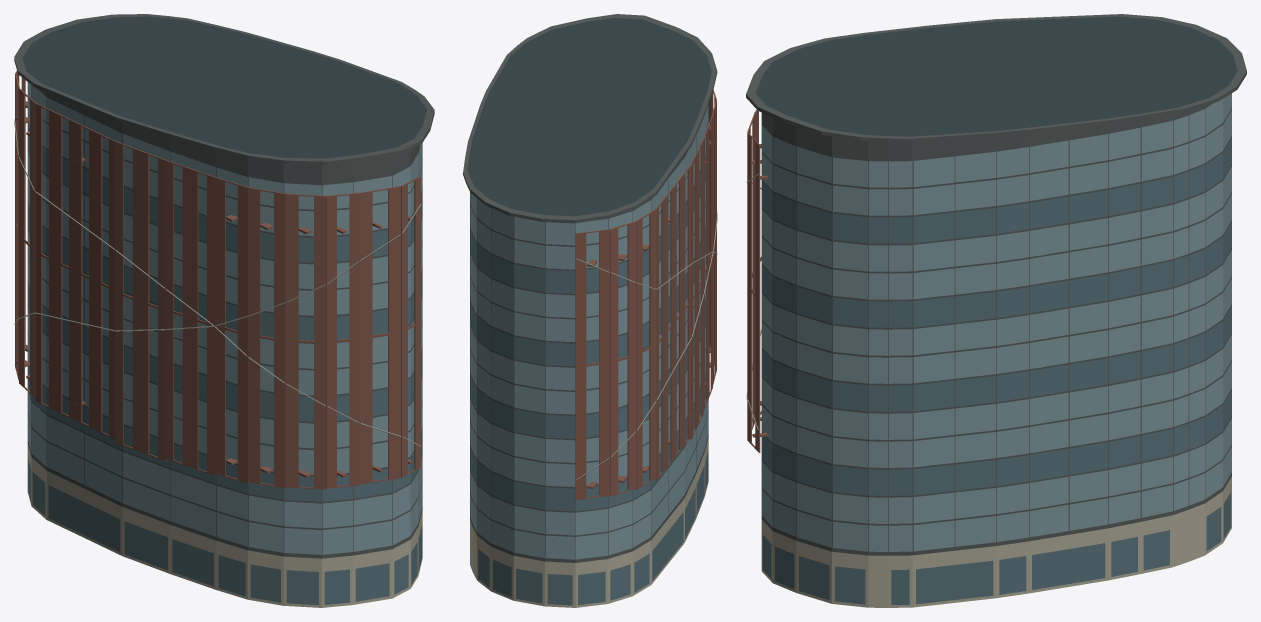
The model's file is tour-elithis-dijon-far.glb.
3 renders of one model, left to right at view 1: azimuth 30°, elevation 25°; view 2: azimuth 150°, elevation 25°; view 3: azimuth 270°, elevation 25°, orthographic. The views are drawn at different scales.
Visible parts, largest first — view 1: tour-elithis-dijon-0-copper, tour-elithis-dijon-0-glass, tour-elithis-dijon-0-solar, tour-elithis-dijon-0-glassDark, tour-elithis-dijon-0-frame, tour-elithis-dijon-0-stone, tour-elithis-dijon-0-ties; view 2: tour-elithis-dijon-0-glass, tour-elithis-dijon-0-solar, tour-elithis-dijon-0-copper, tour-elithis-dijon-0-glassDark, tour-elithis-dijon-0-frame, tour-elithis-dijon-0-stone, tour-elithis-dijon-0-ties; view 3: tour-elithis-dijon-0-glass, tour-elithis-dijon-0-glassDark, tour-elithis-dijon-0-solar, tour-elithis-dijon-0-frame, tour-elithis-dijon-0-stone, tour-elithis-dijon-0-copper.
Part boxes in pixels (<box>): tour-elithis-dijon-0-copper: <box>15,71,420,489</box>; tour-elithis-dijon-0-glass: <box>27,82,422,554</box>; tour-elithis-dijon-0-solar: <box>22,16,427,158</box>; tour-elithis-dijon-0-glassDark: <box>27,123,422,604</box>; tour-elithis-dijon-0-frame: <box>14,14,434,558</box>; tour-elithis-dijon-0-stone: <box>27,443,422,607</box>; tour-elithis-dijon-0-ties: <box>14,119,421,446</box>; tour-elithis-dijon-0-glass: <box>470,104,708,559</box>; tour-elithis-dijon-0-solar: <box>467,18,711,216</box>; tour-elithis-dijon-0-copper: <box>575,90,716,499</box>; tour-elithis-dijon-0-glassDark: <box>470,156,708,605</box>; tour-elithis-dijon-0-frame: <box>463,14,717,562</box>; tour-elithis-dijon-0-stone: <box>470,437,708,607</box>; tour-elithis-dijon-0-ties: <box>576,212,717,480</box>; tour-elithis-dijon-0-glass: <box>762,93,1231,551</box>; tour-elithis-dijon-0-glassDark: <box>762,138,1231,604</box>; tour-elithis-dijon-0-solar: <box>755,16,1237,136</box>; tour-elithis-dijon-0-frame: <box>746,14,1246,555</box>; tour-elithis-dijon-0-stone: <box>761,476,1231,607</box>; tour-elithis-dijon-0-copper: <box>747,110,767,452</box>.
Bounding box in the file's own units: 20.66 × 33.5 × 31.77.
